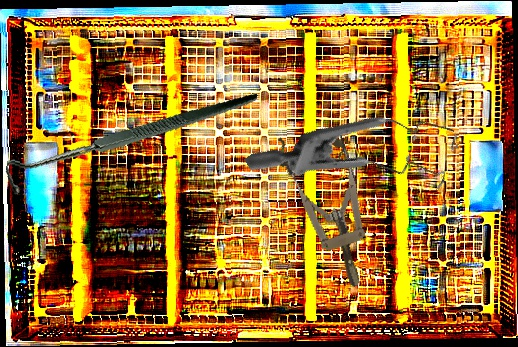Hook Surgical: (1, 50, 258, 237)
Speculum: (244, 53, 476, 270), (271, 119, 388, 297)
